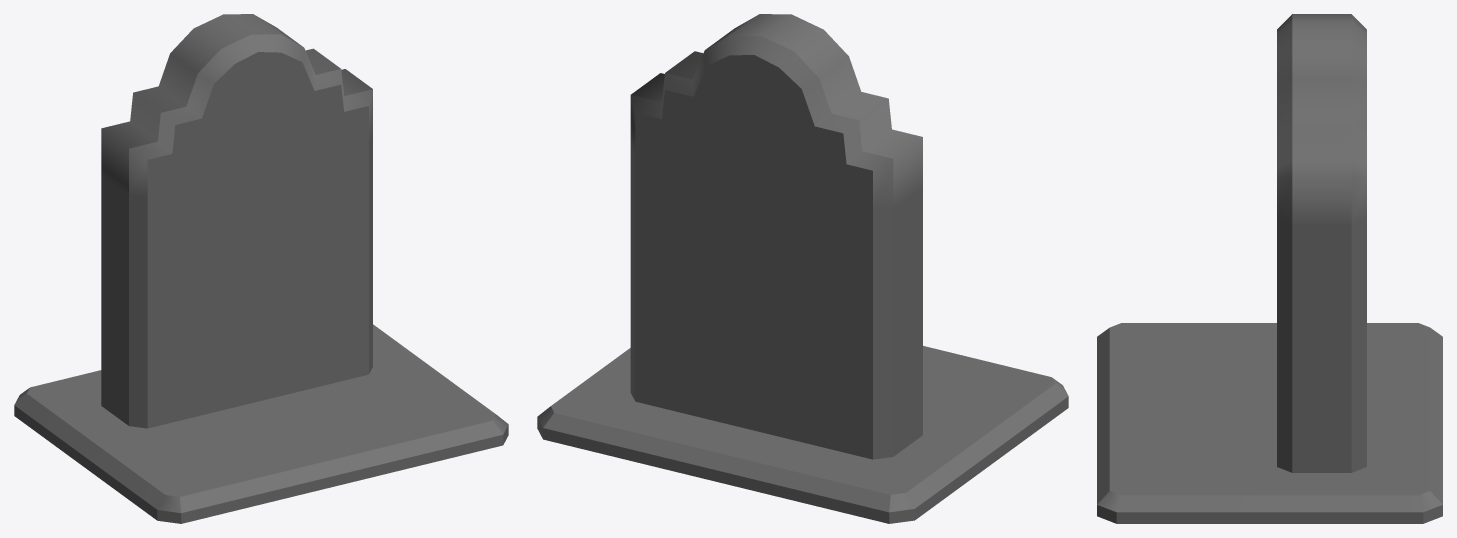
File: Gravestone_3.fbx
3 views of the same model, side by side, from view 1: azimuth 30°, elevation 25°; view 2: azimuth 150°, elevation 25°; view 3: azimuth 270°, elevation 25° (orthographic). The views are drawn at different scales.
Visible parts, largest first — view 1: Gravestone_3; view 2: Gravestone_3; view 3: Gravestone_3.
Part boxes in pixels (x1=…): Gravestone_3: x1=14, y1=14, x2=508, y2=523; Gravestone_3: x1=537, y1=14, x2=1068, y2=523; Gravestone_3: x1=1097, y1=14, x2=1442, y2=523.
Size of the model in its own units: 35.96 by 37.5 by 28.66.
